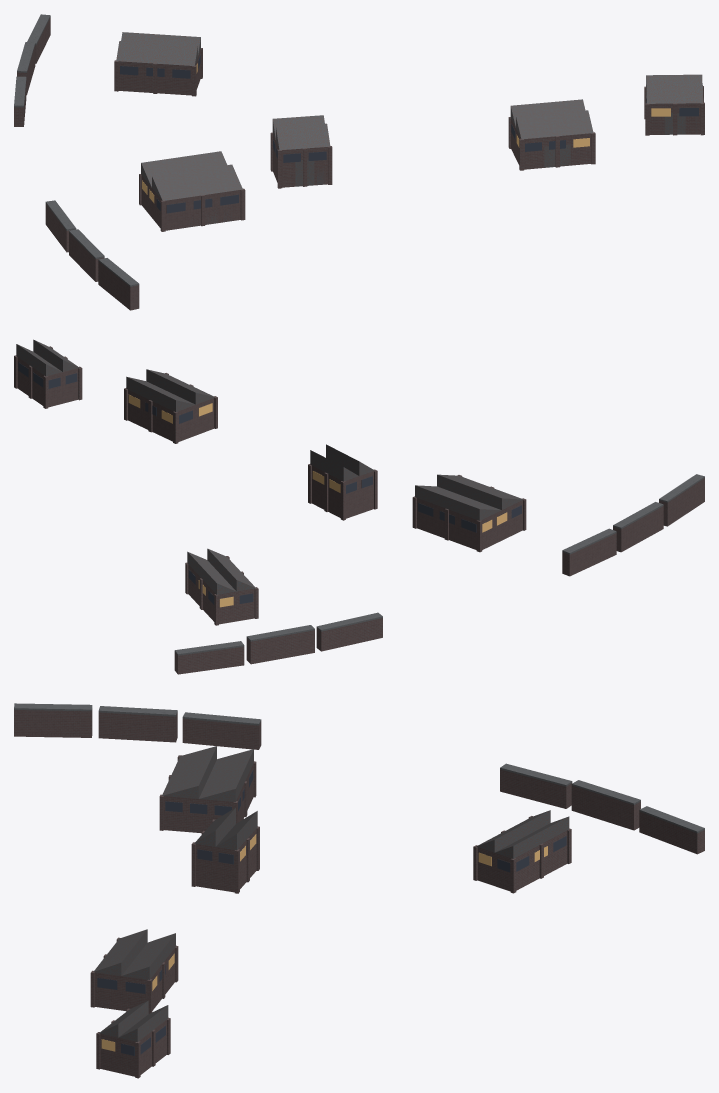
The model's file is SM_City_BaytAlDarb_3.fbx.
3 renders of one model, top to bottom at view 1: azimuth 30°, elevation 25°; view 2: azimuth 150°, elevation 25°; view 3: azimuth 270°, elevation 25°, orthographic. The views are drawn at different scales.
Parts seen in each view (by area): view 1: SM_City_BaytAlDarb_3; view 2: SM_City_BaytAlDarb_3; view 3: SM_City_BaytAlDarb_3.
Part boxes in pixels (bbox=[...]): SM_City_BaytAlDarb_3: bbox=[14, 14, 704, 310]; SM_City_BaytAlDarb_3: bbox=[14, 339, 704, 674]; SM_City_BaytAlDarb_3: bbox=[14, 703, 704, 1078].
Size of the model in its own units: 8705 by 691 by 7332.
Materials: 6 (6 with a texture image).
